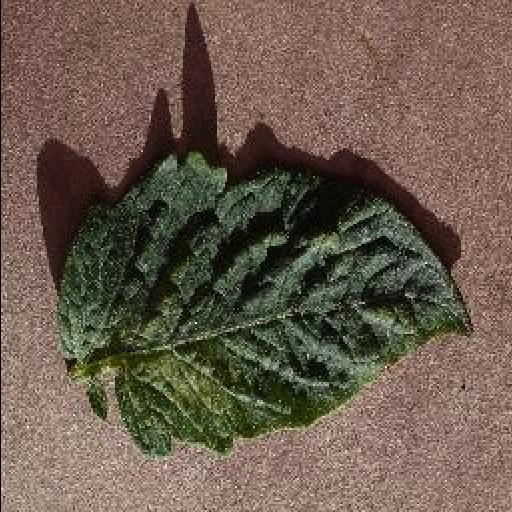disease_tomato: (58, 150, 474, 458)
